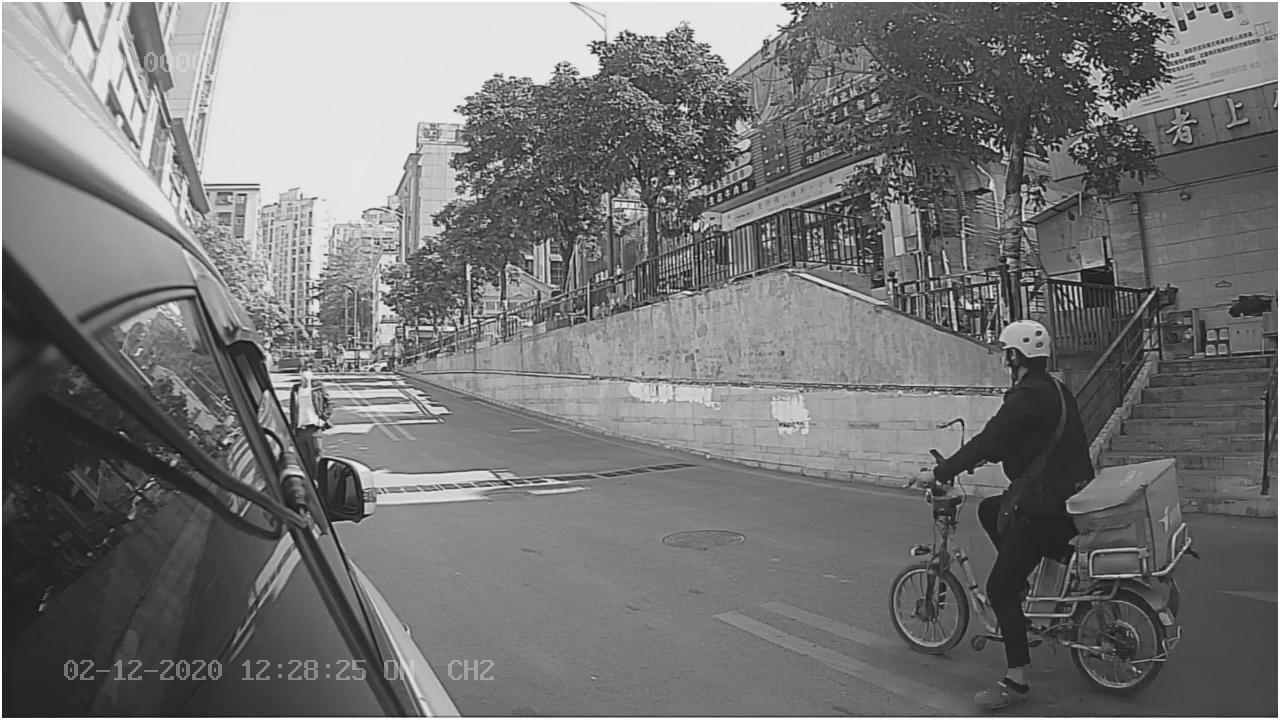person: (909, 307, 1090, 492)
